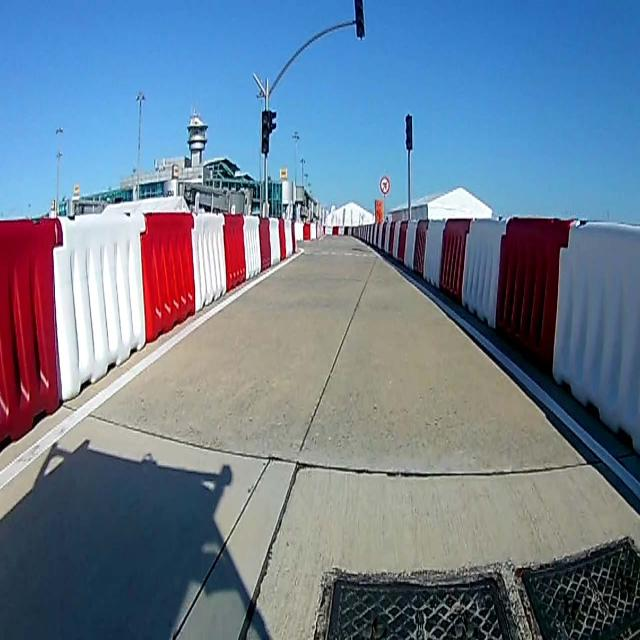soladonulmez: (380, 177, 390, 195)
